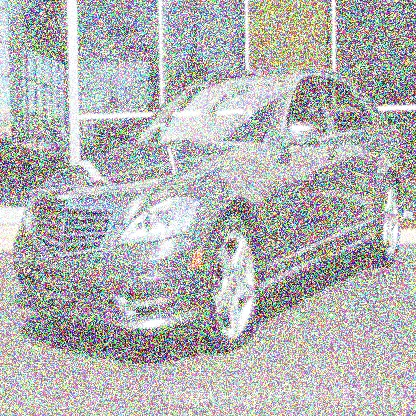Vehicle: (11, 65, 411, 354)
